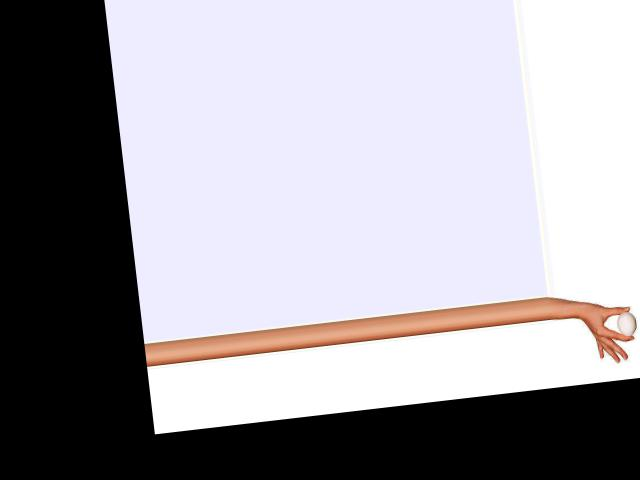egg: (616, 310, 638, 337)
